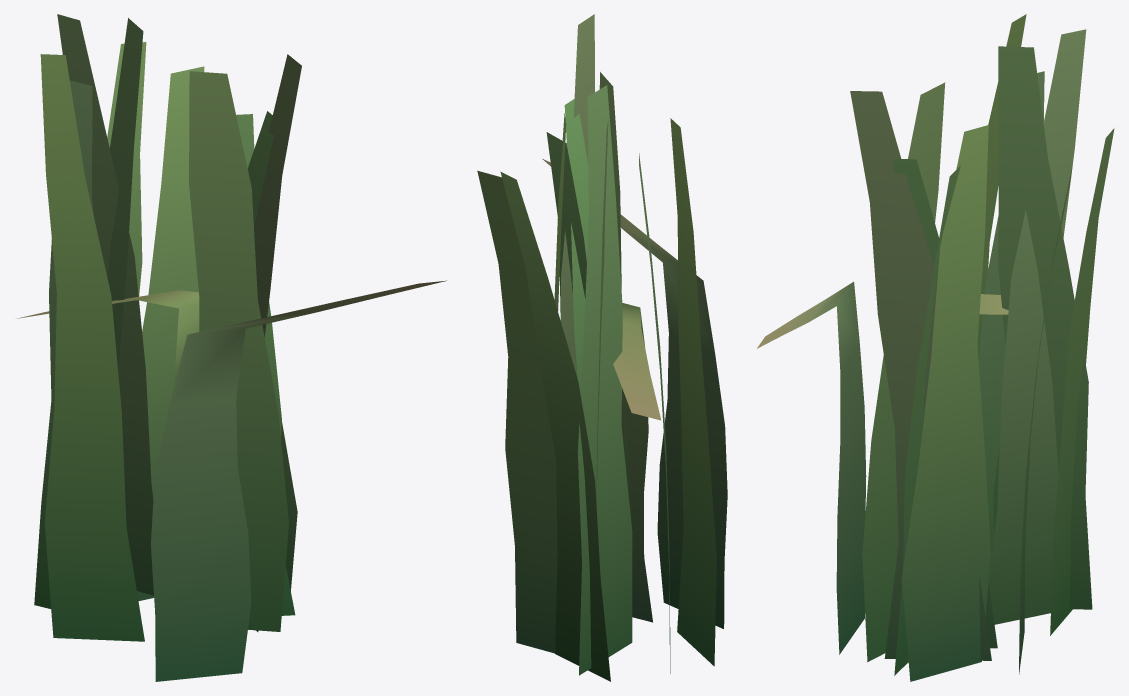
Rendered from env_grass_broad_clump_01.glb.
3 views of the same model, side by side, from view 1: azimuth 30°, elevation 25°; view 2: azimuth 150°, elevation 25°; view 3: azimuth 270°, elevation 25° (orthographic). The views are drawn at different scales.
Parts seen in each view (by area): view 1: grass_broad_clump; view 2: grass_broad_clump; view 3: grass_broad_clump.
Part boxes in pixels (<box>): grass_broad_clump: <box>17,14,446,681</box>; grass_broad_clump: <box>477,14,727,681</box>; grass_broad_clump: <box>757,14,1114,681</box>.
Size of the model in its own units: 0.1271 by 0.246 by 0.1334.
